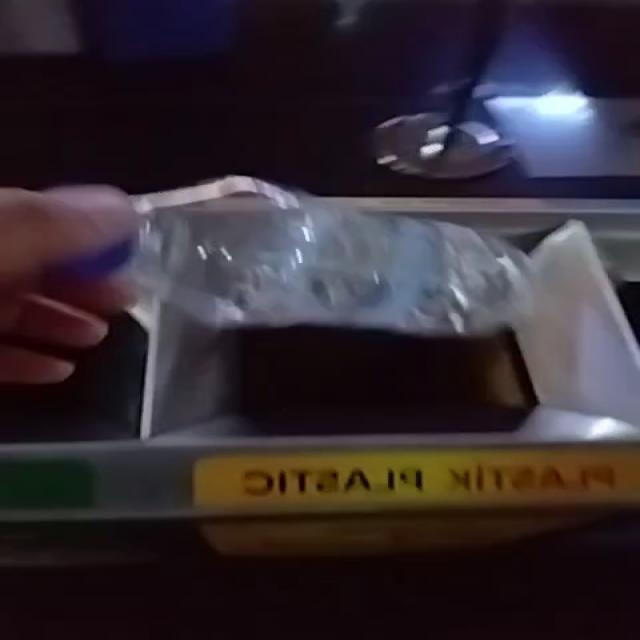Plastic: (140, 177, 525, 335)
